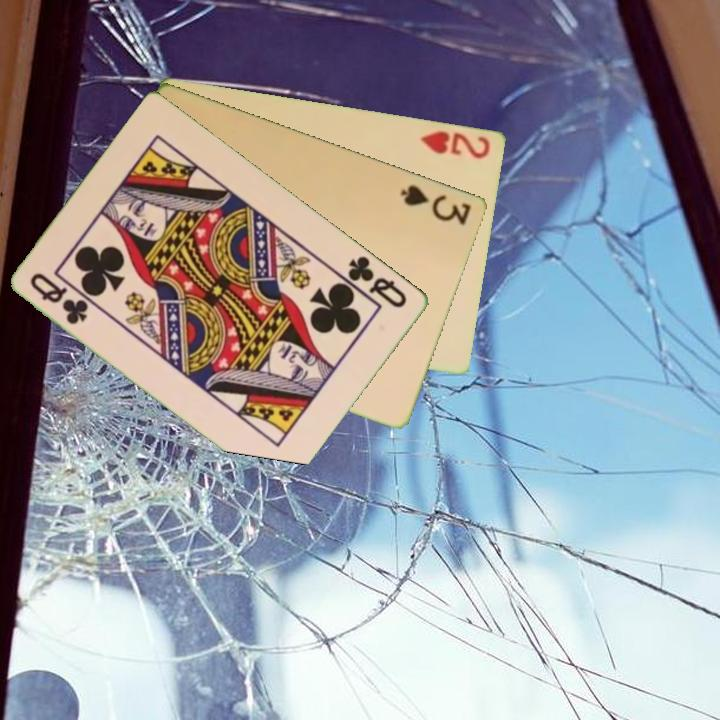2h: (417, 126, 494, 162)
3s: (397, 180, 475, 228)
Qc: (344, 252, 411, 311), (27, 269, 92, 328)
